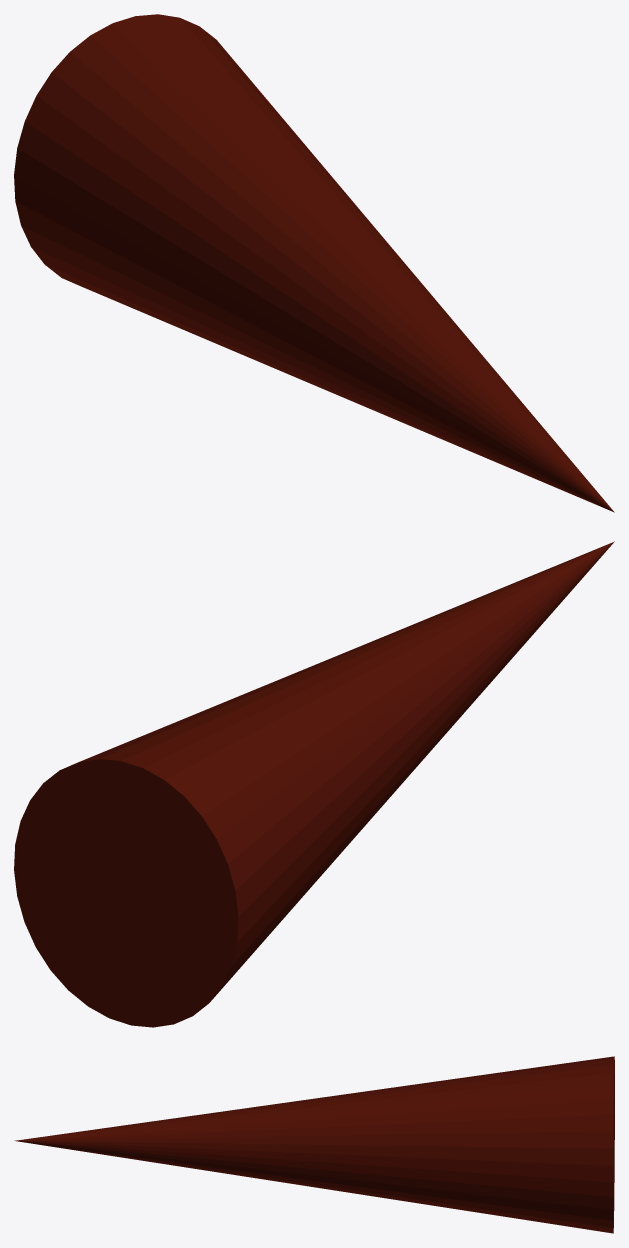
The model's file is pua.glb.
3 views of the same model, one above another, from view 1: azimuth 30°, elevation 25°; view 2: azimuth 150°, elevation 25°; view 3: azimuth 270°, elevation 25° (orthographic). The views are drawn at different scales.
Parts seen in each view (by area): view 1: node_id4; view 2: node_id4; view 3: node_id4.
Part boxes in pixels (box(x1,y1,x2,y2)): node_id4: box(14, 14, 614, 512); node_id4: box(14, 541, 614, 1027); node_id4: box(14, 1056, 614, 1233).
Size of the model in its own units: 0.1504 by 0.1669 by 0.5546.
Materials: 1 (1 with a texture image).
